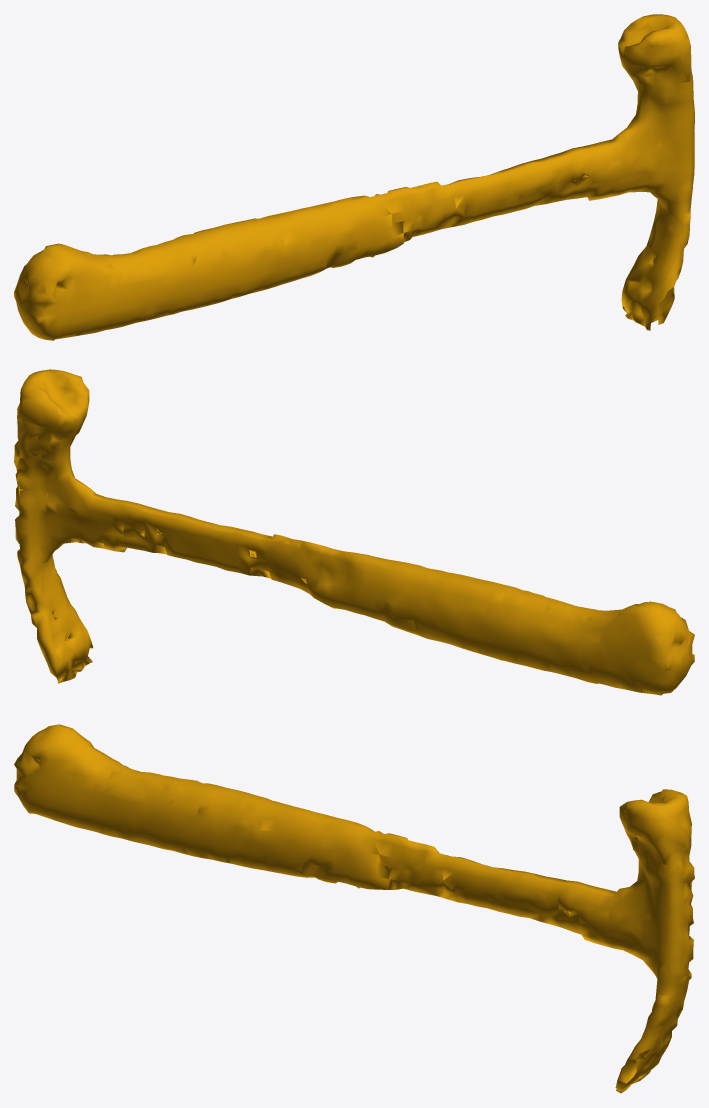
The model's file is model_origin.obj.
3 renders of one model, top to bottom at view 1: azimuth 30°, elevation 25°; view 2: azimuth 150°, elevation 25°; view 3: azimuth 330°, elevation 25°, orthographic.
Size of the model in its own units: 1 by 0.4226 by 0.1062.
